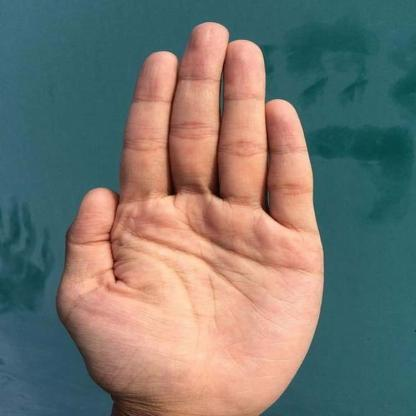palm: (56, 18, 325, 413)
